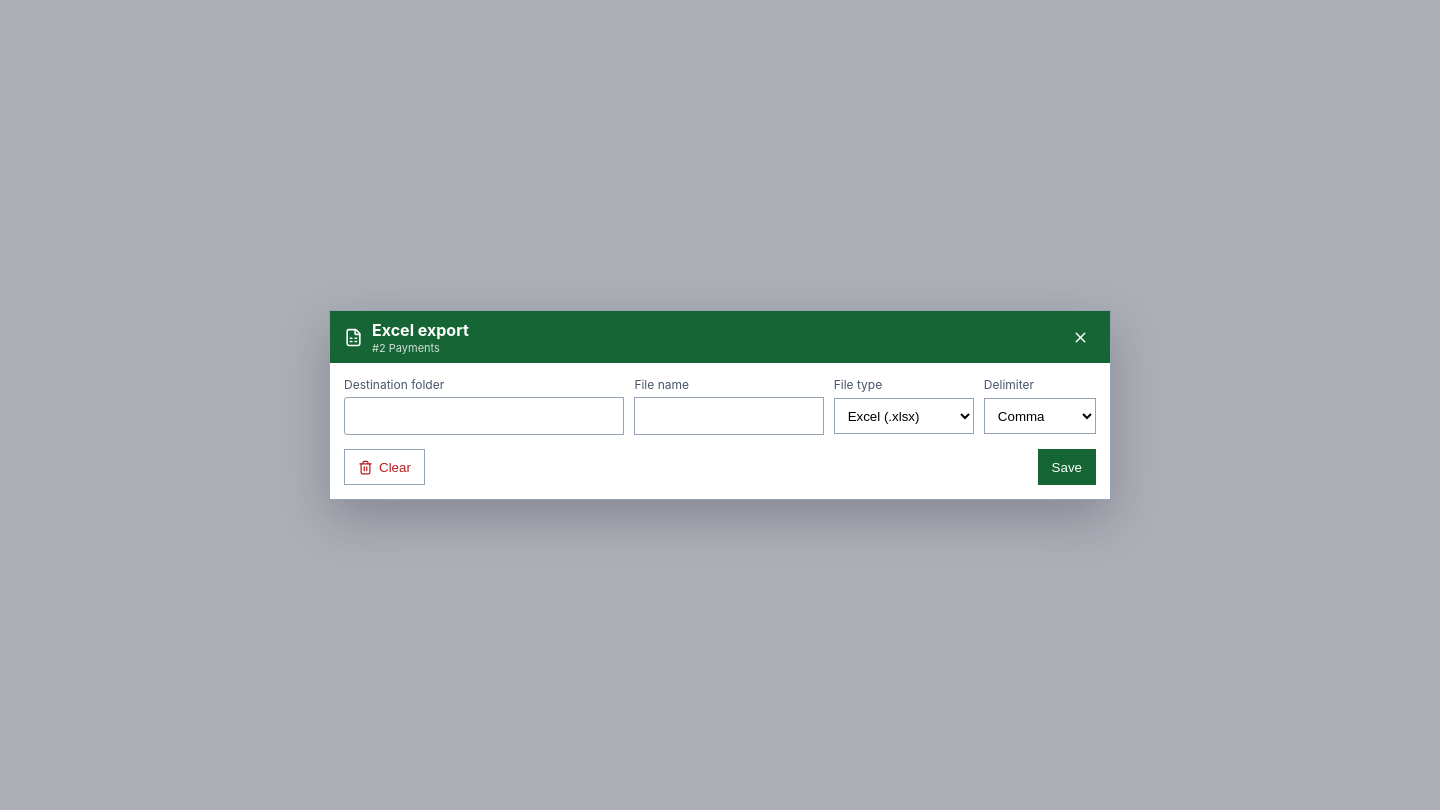
Test case: requires directory and filename before save
Step 1. Click the button "Save" → (1067, 467), box [1038,449,1096,485]
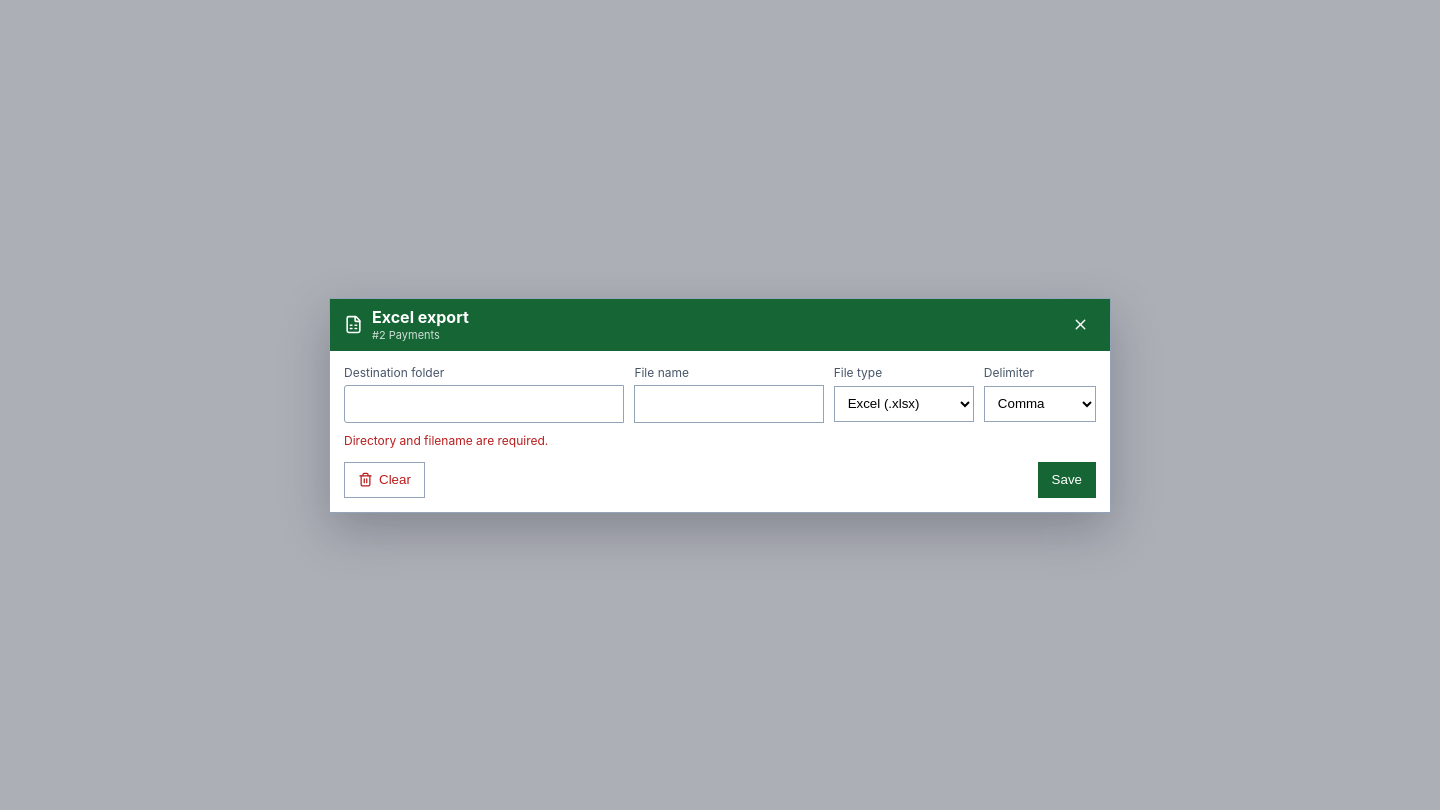
Expected: the text "Directory and filename are required." is shown, [344,432,548,448]
